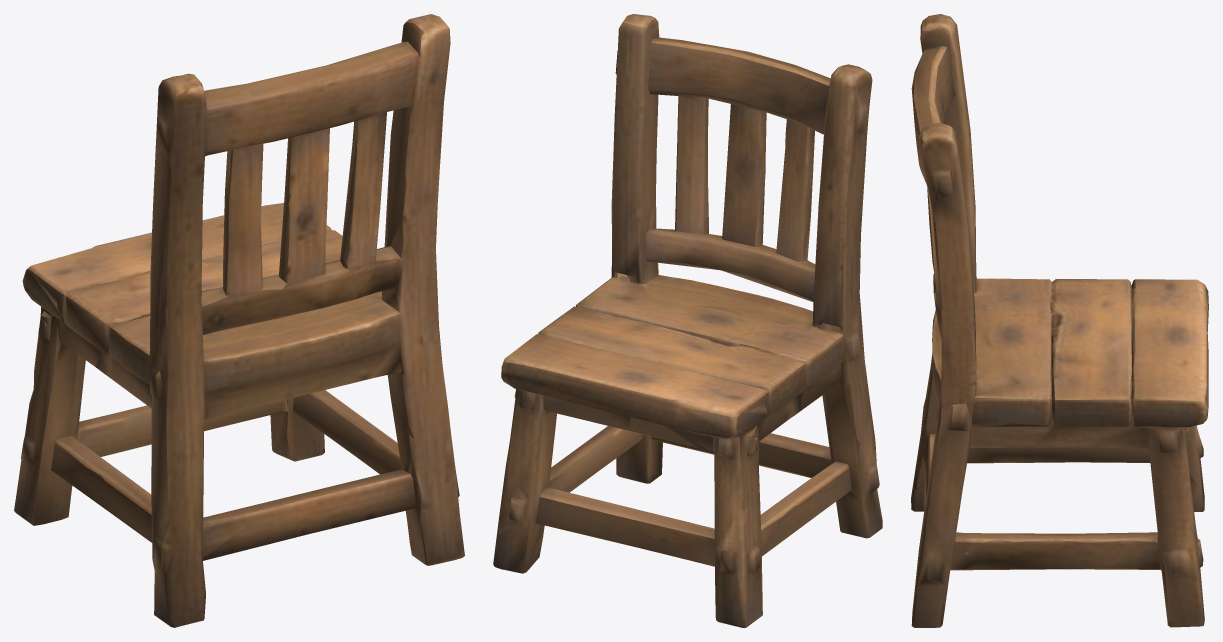
The picture shows the model from 3 angles, left to right: view 1: azimuth 30°, elevation 25°; view 2: azimuth 150°, elevation 25°; view 3: azimuth 270°, elevation 25°; orthographic projection. The views are drawn at different scales.
Parts seen in each view (by area): view 1: geometry_0; view 2: geometry_0; view 3: geometry_0.
Part boxes in pixels (<box>): geometry_0: <box>14,14,464,627</box>; geometry_0: <box>493,14,882,627</box>; geometry_0: <box>911,14,1208,627</box>.
Bounding box in the file's own units: 0.4945 × 0.85 × 0.4665.
1 material, 1 textured.
